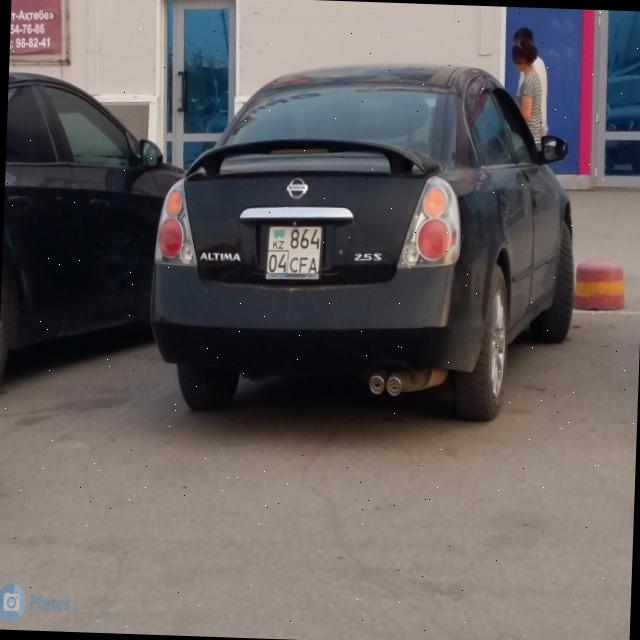License-plate: (265, 222, 323, 279)
